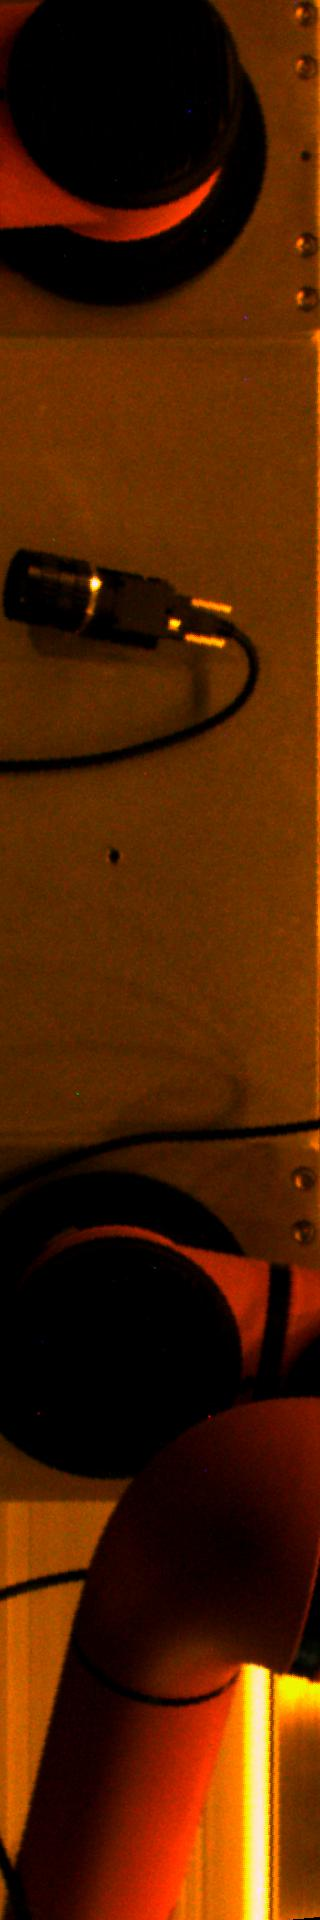keyPoint_2: (98, 842, 128, 872)
